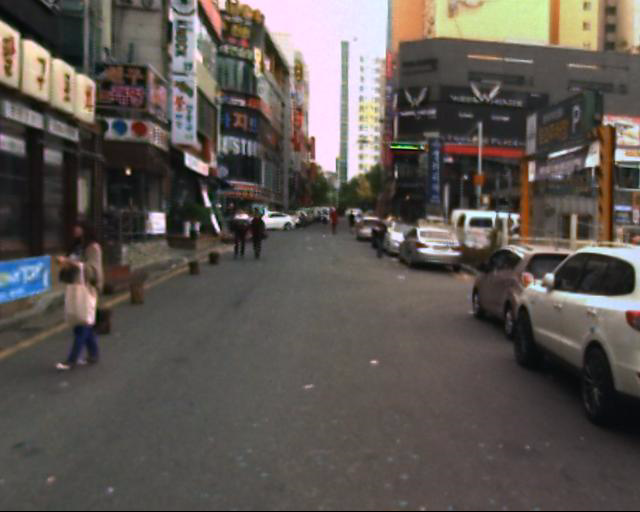person: (47, 197, 109, 387), (226, 204, 255, 270), (248, 207, 272, 276), (366, 213, 396, 265)
